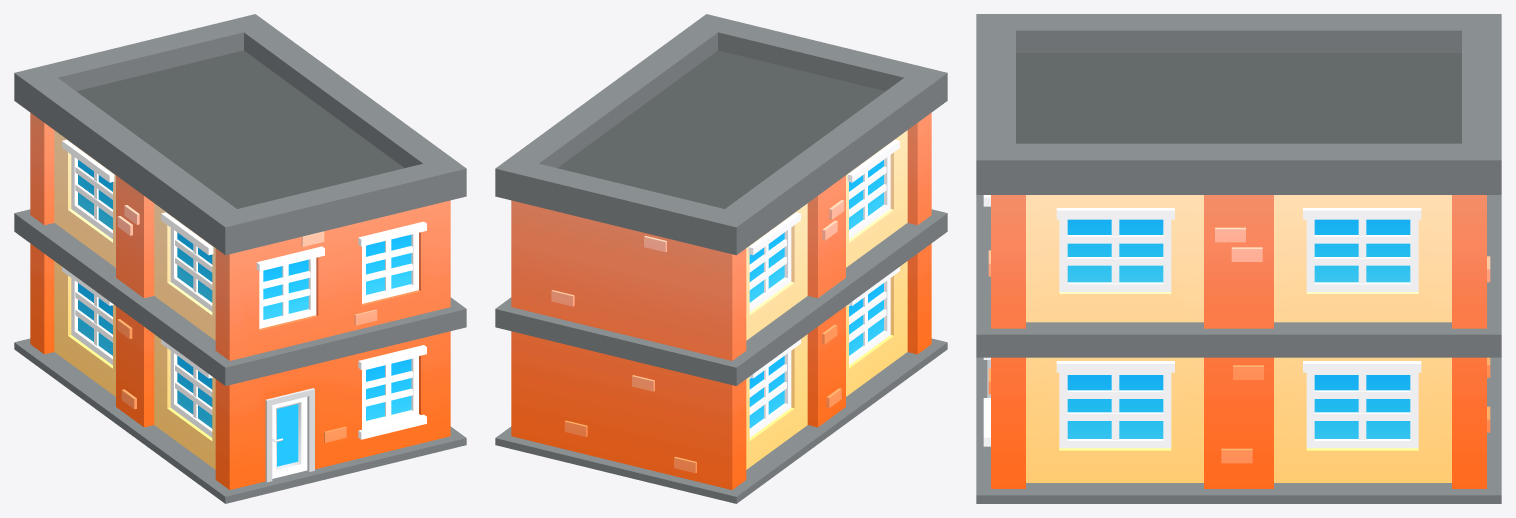
Rendered from city2-building-living-09.glb.
3 views of the same model, side by side, from view 1: azimuth 30°, elevation 25°; view 2: azimuth 150°, elevation 25°; view 3: azimuth 270°, elevation 25° (orthographic). The views are drawn at different scales.
Visible parts, largest first — view 1: Building_Living_09; view 2: Building_Living_09; view 3: Building_Living_09.
Boxes of the visible parts, x1,y1,x2,y2 form: Building_Living_09: [14, 14, 466, 503]; Building_Living_09: [495, 14, 947, 503]; Building_Living_09: [976, 14, 1501, 503].
Size of the model in its own units: 7.15 by 7.83 by 10.84.
Materials: 1 (1 with a texture image).
